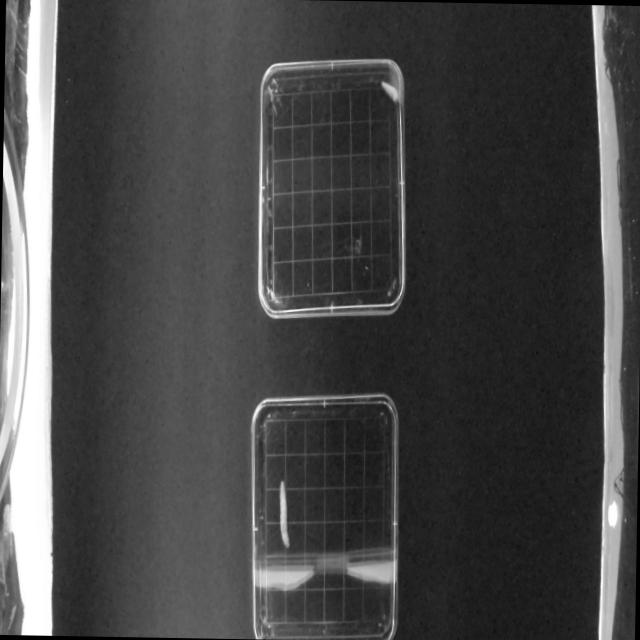larva: (276, 476, 294, 552), (380, 77, 400, 107)
